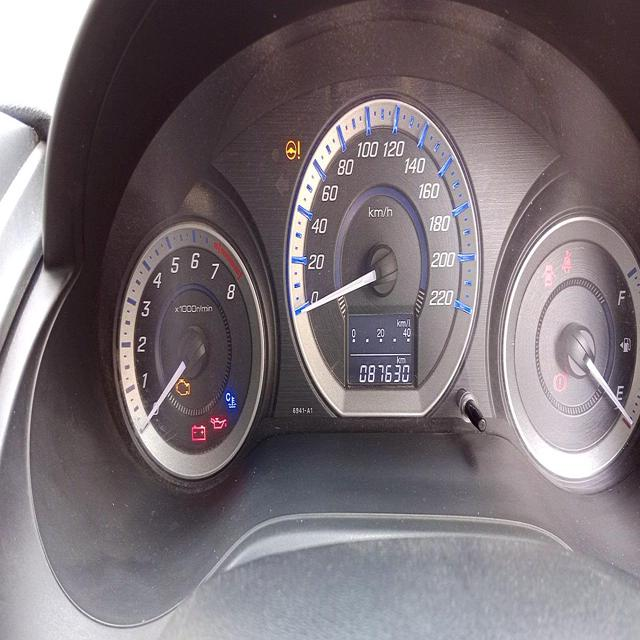odometer: (358, 362, 410, 384)
